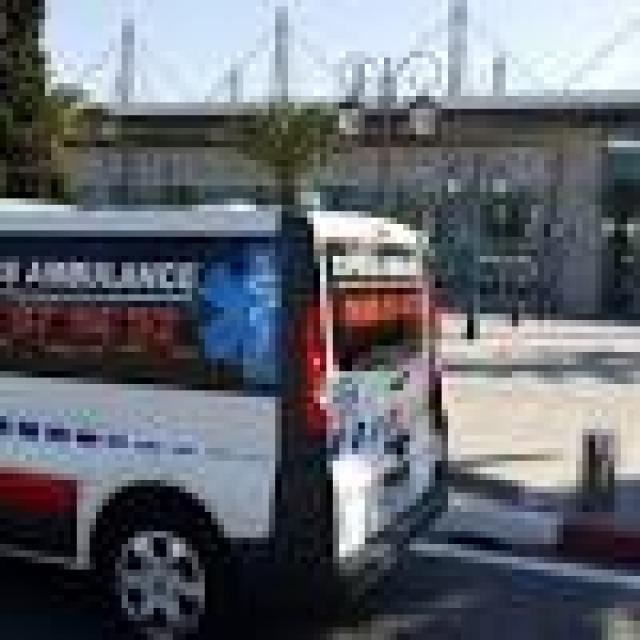ambulance: (2, 192, 460, 640)
